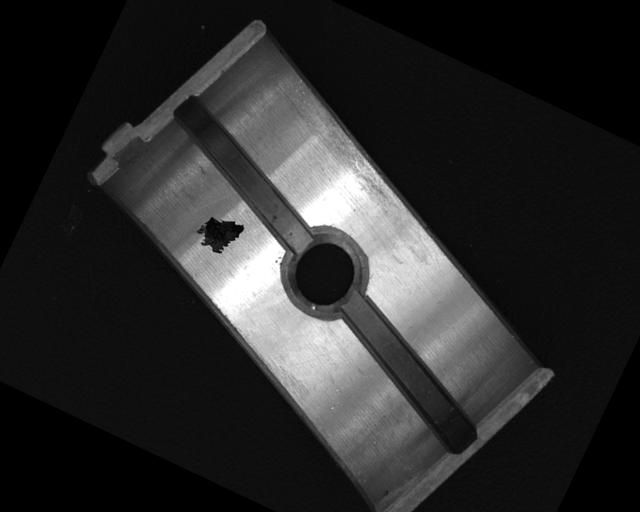blot: (188, 204, 246, 260)
gap: (307, 289, 507, 455), (144, 92, 344, 253)
hole: (270, 215, 382, 330)
scratch: (257, 72, 441, 215)
